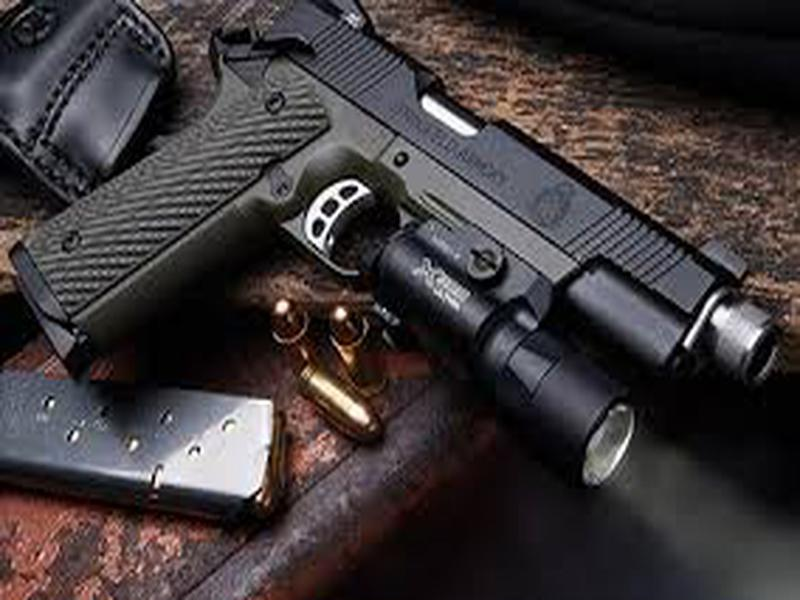gun: (15, 1, 778, 494)
